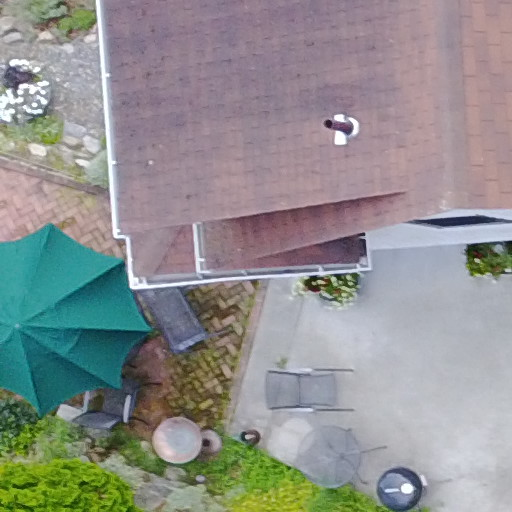umbrella: (3, 214, 151, 437)
